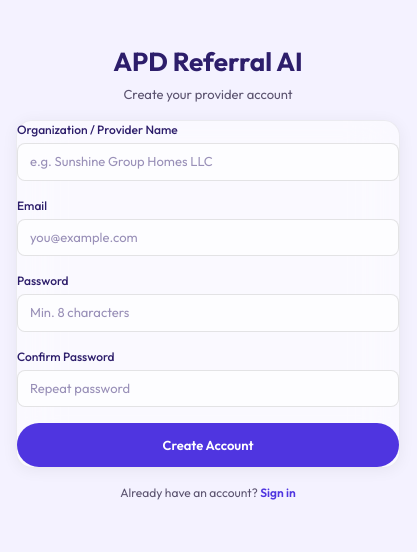
Test case: Signup › shows error when passwords do not match
In the field labelled "Organization / Provider Name": (208, 162) [17,143,399,181], type "My Org"
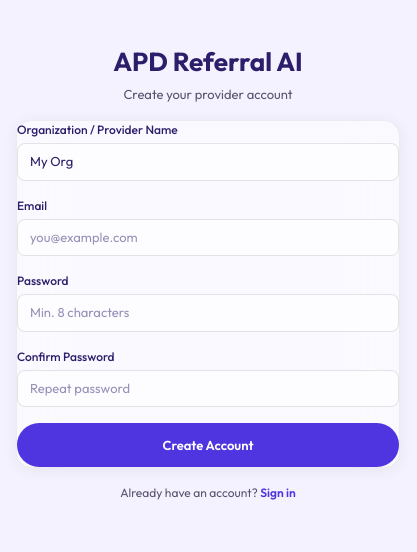
In the field labelled "Email": (208, 238) [17,219,399,256], type "new@test.com"
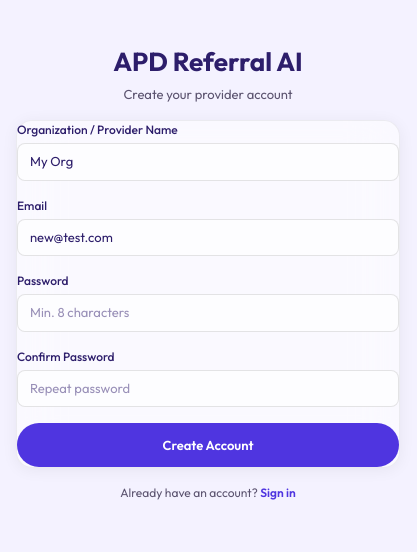
In the password field labelled "Password": (208, 313) [17,294,399,332], type "password123"
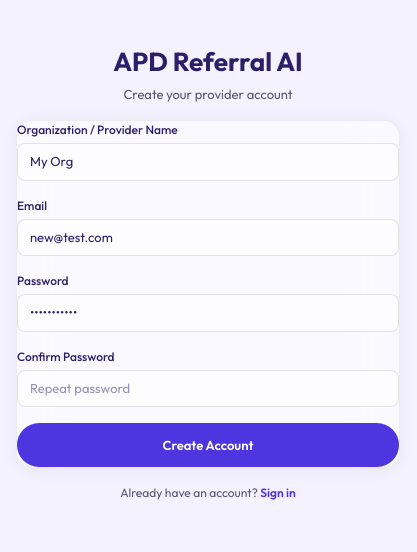
In the password field labelled "Confirm Password": (208, 389) [17,370,399,407], type "different!"
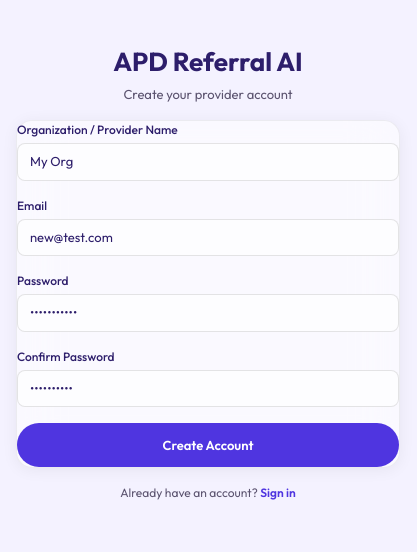
Click the button "Create Account": (208, 445) [17,423,399,467]
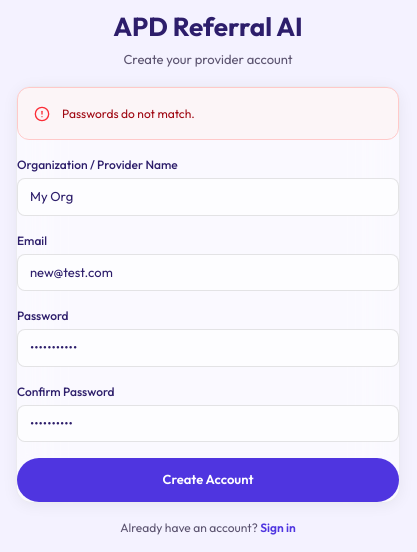
Expected: the text "Passwords do not match." is shown, [62,104,195,123]
